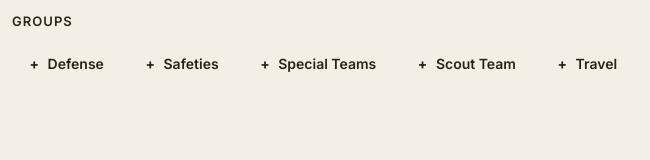
Test: changing membership › surfaces a failure instead of showing a change that did not happen
Click the button "+ Travel".
click(586, 63)  # box [540,41,633,85]
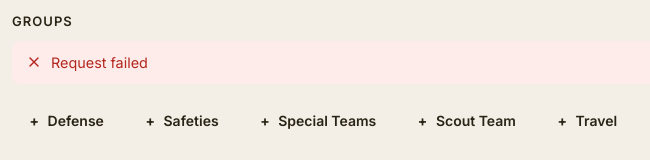
Expected: the text "Request failed" is shown, [51,52,148,73]
